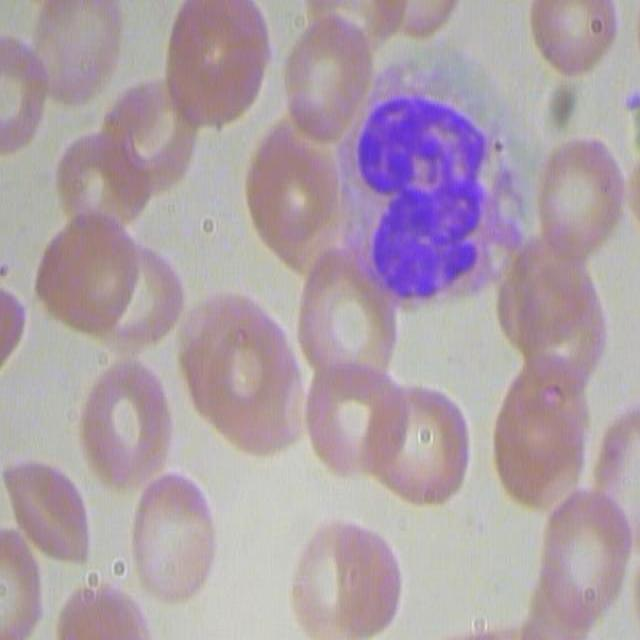RBC: (181, 296, 310, 457), (228, 96, 346, 264), (280, 515, 413, 640), (488, 368, 590, 513), (156, 6, 275, 130), (309, 352, 412, 490), (521, 116, 627, 244), (543, 462, 630, 614), (501, 235, 605, 362), (284, 260, 386, 385), (119, 464, 219, 590), (72, 359, 174, 482), (259, 24, 375, 123), (371, 392, 474, 496), (94, 86, 203, 184), (90, 243, 182, 355), (44, 211, 138, 311), (27, 0, 121, 94), (519, 1, 618, 74), (1, 271, 38, 380)
WBC: (342, 56, 528, 300), (1, 447, 91, 566)
